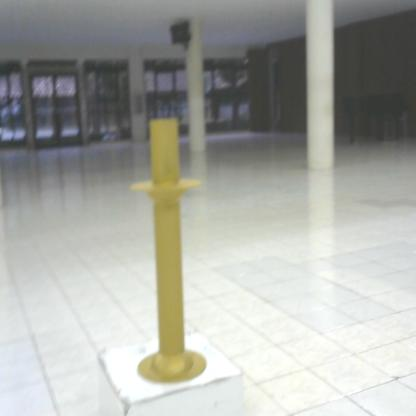pole: (127, 113, 217, 395)
